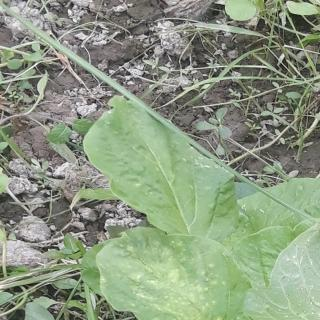karat_putih: (132, 244, 224, 320), (278, 234, 320, 308)
